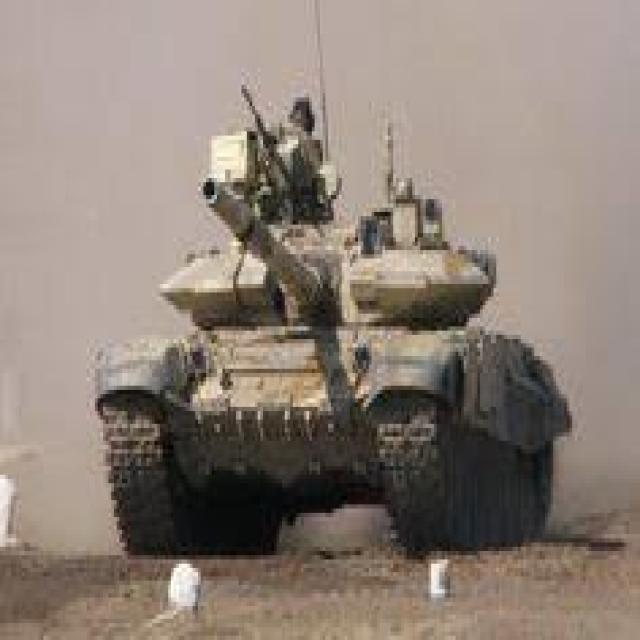Tanks: (68, 44, 567, 596)
